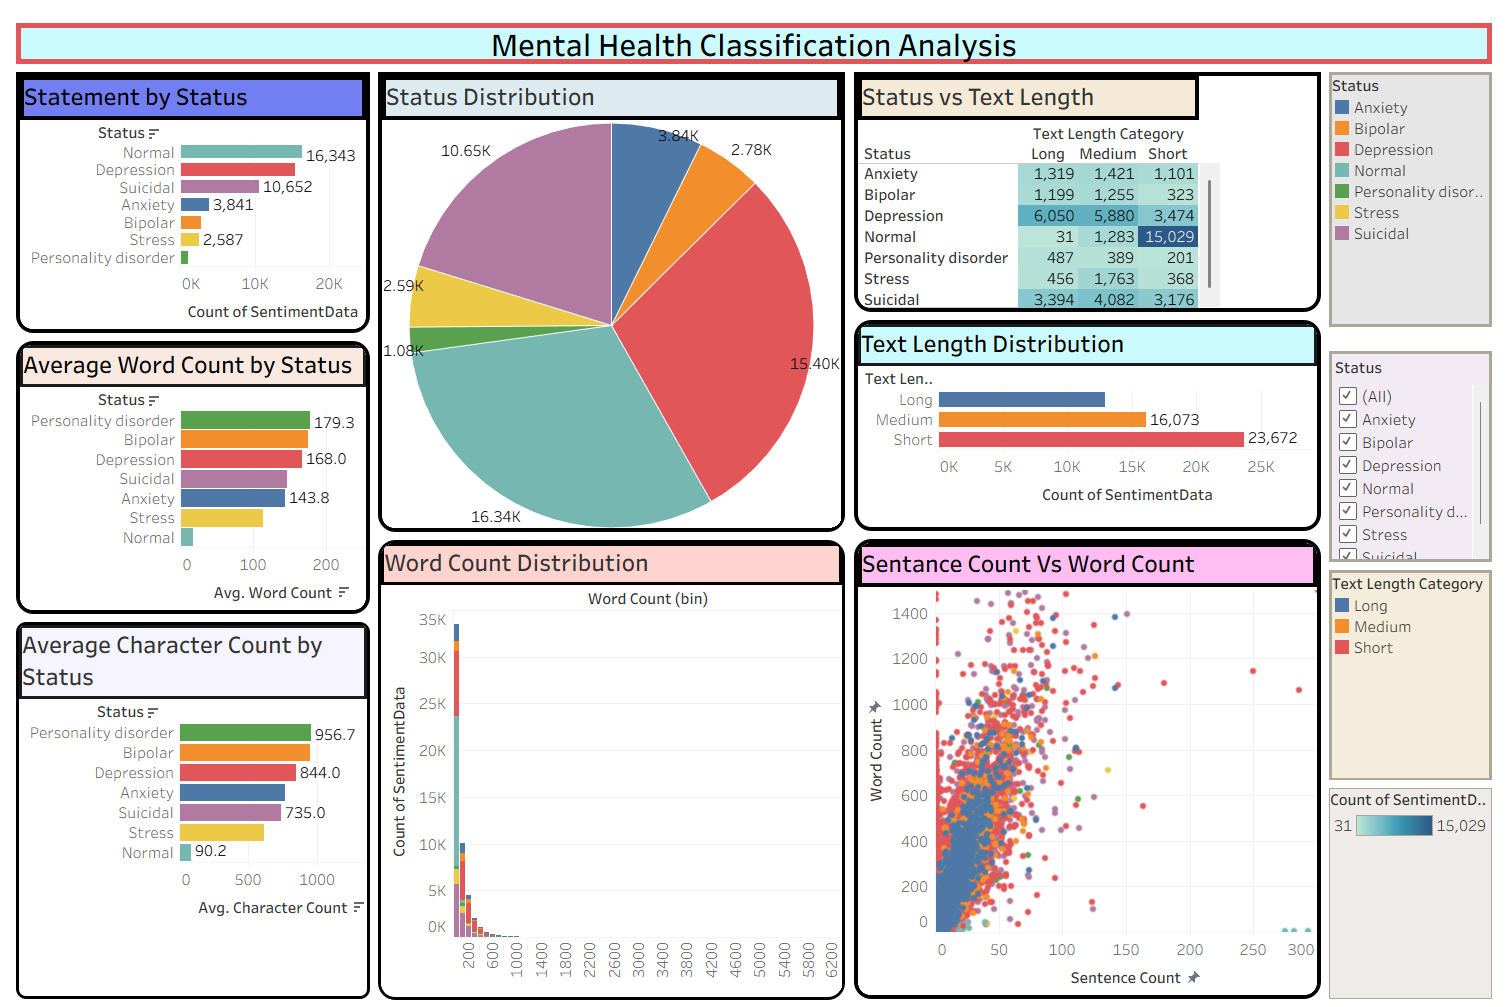

The dashboard page shown, as its layout file describes it:
{"tool":"tableau","page":{"name":"Dashboard 1","canvas":[1500,1000],"ordinal":0},"visuals":[{"type":"title","box":[8,8,1484,49]},{"type":"worksheet","title":"Statements by Status","mark":"Automatic","rows":["status"],"cols":["SentimentData_358372D76A8D486CB6B6AA750F9C734E"],"box":[8,57,362.3,268.6]},{"type":"worksheet","title":"Status Distribution","mark":"Pie","box":[370.3,57,475.4,467.5]},{"type":"worksheet","title":"Status vs Text Length","mark":"Square","rows":["status"],"cols":["Calculation_0900822930554880"],"box":[845.6,57,475.4,248.2]},{"type":"legend","title":"Statements by Status","param":"[federated.01bzibt087ul9k122c4nt06cucc5].[none:status:nk]","box":[1321,57,171,263]},{"type":"worksheet","title":"Text Length Distribution","mark":"Automatic","rows":["Calculation_0900822930554880"],"cols":["SentimentData_358372D76A8D486CB6B6AA750F9C734E"],"box":[845.6,305.2,475.4,219.3]},{"type":"worksheet","title":"Average Words by Status","mark":"Automatic","rows":["status"],"cols":["word_count"],"box":[8,325.6,362.3,281.2]},{"type":"filter","title":"Text Length Distribution","param":"[federated.01bzibt087ul9k122c4nt06cucc5].[none:status:nk]","box":[1321,336.1,171,218.6]},{"type":"worksheet","title":"Word Count Distribution","mark":"Bar","rows":["SentimentData_358372D76A8D486CB6B6AA750F9C734E"],"cols":["Word Count (bin)"],"box":[370.3,524.5,475.4,467.5]},{"type":"worksheet","title":"Word Count vs Character Count","mark":"Circle","rows":["word_count"],"cols":["sentence_count"],"box":[845.6,524.5,475.4,467.5]},{"type":"legend","title":"Text Length Distribution","param":"[federated.01bzibt087ul9k122c4nt06cucc5].[none:Calculation_0900822930554880:nk]","box":[1321,554.7,171,218.6]},{"type":"worksheet","title":"Average Character Count by Status","mark":"Automatic","rows":["status"],"cols":["character_count"],"box":[8,606.7,362.3,385.3]},{"type":"legend","title":"Status vs Text Length","param":"[federated.01bzibt087ul9k122c4nt06cucc5].[__tableau_internal_object_id__].[cnt:S","box":[1321,773.4,171,218.6]}]}

Visuals, with their boxes in screenshot pixels (x1, y1, x2, y2), scaled from the page's 1500x1000 canvas onto the 1510x1007 screenshot:
title: (left=8, top=8, right=1502, bottom=57)
"Statements by Status" worksheet: (left=8, top=57, right=373, bottom=328)
"Status Distribution" worksheet (Pie marks): (left=373, top=57, right=851, bottom=528)
"Status vs Text Length" worksheet (Square marks): (left=851, top=57, right=1330, bottom=307)
"Statements by Status" legend: (left=1330, top=57, right=1502, bottom=322)
"Text Length Distribution" worksheet: (left=851, top=307, right=1330, bottom=528)
"Average Words by Status" worksheet: (left=8, top=328, right=373, bottom=611)
"Text Length Distribution" filter: (left=1330, top=338, right=1502, bottom=559)
"Word Count Distribution" worksheet (Bar marks): (left=373, top=528, right=851, bottom=999)
"Word Count vs Character Count" worksheet (Circle marks): (left=851, top=528, right=1330, bottom=999)
"Text Length Distribution" legend: (left=1330, top=559, right=1502, bottom=779)
"Average Character Count by Status" worksheet: (left=8, top=611, right=373, bottom=999)
"Status vs Text Length" legend: (left=1330, top=779, right=1502, bottom=999)
